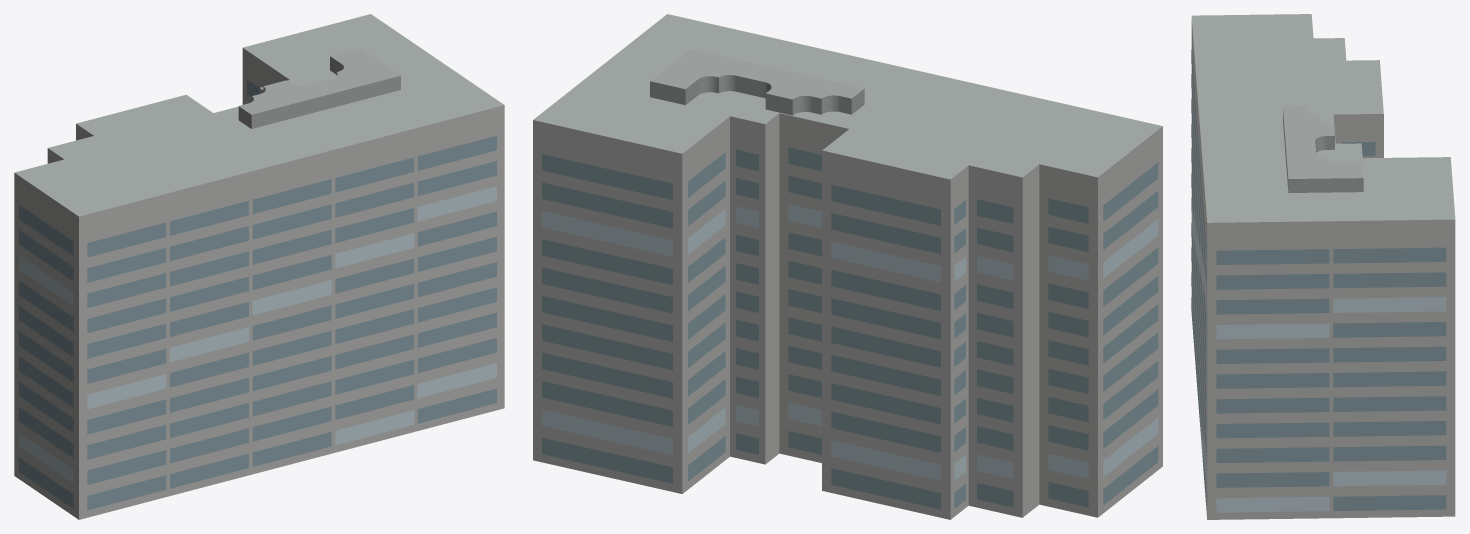
The model's file is fallback-mapo-grang-xi-202.glb.
3 renders of one model, left to right at view 1: azimuth 30°, elevation 25°; view 2: azimuth 150°, elevation 25°; view 3: azimuth 270°, elevation 25°, orthographic. The views are drawn at different scales.
Visible parts, largest first — view 1: fallback-mapo-grang-xi-202; view 2: fallback-mapo-grang-xi-202; view 3: fallback-mapo-grang-xi-202.
Boxes of the visible parts, x1,y1,x2,y2 form: fallback-mapo-grang-xi-202: (14,14,504,519); fallback-mapo-grang-xi-202: (533,14,1162,519); fallback-mapo-grang-xi-202: (1191,14,1455,519).
Size of the model in its own units: 44.67 by 31 by 23.87.
